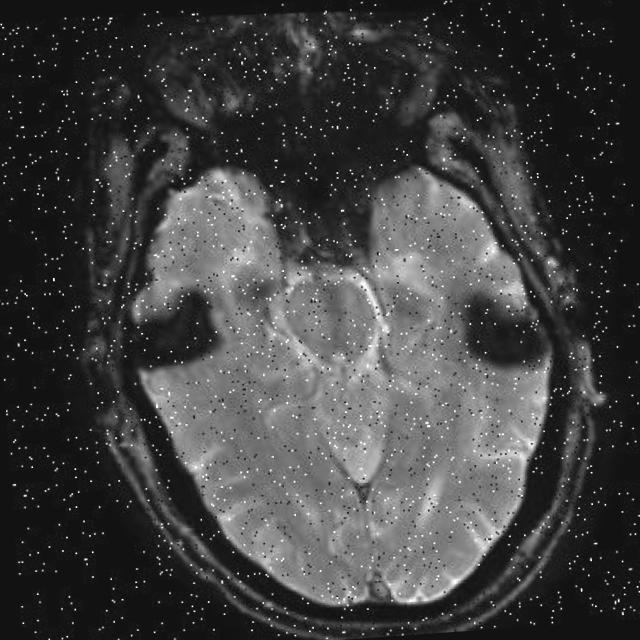LMCI: (128, 258, 264, 430)
MCI: (447, 240, 552, 433)
